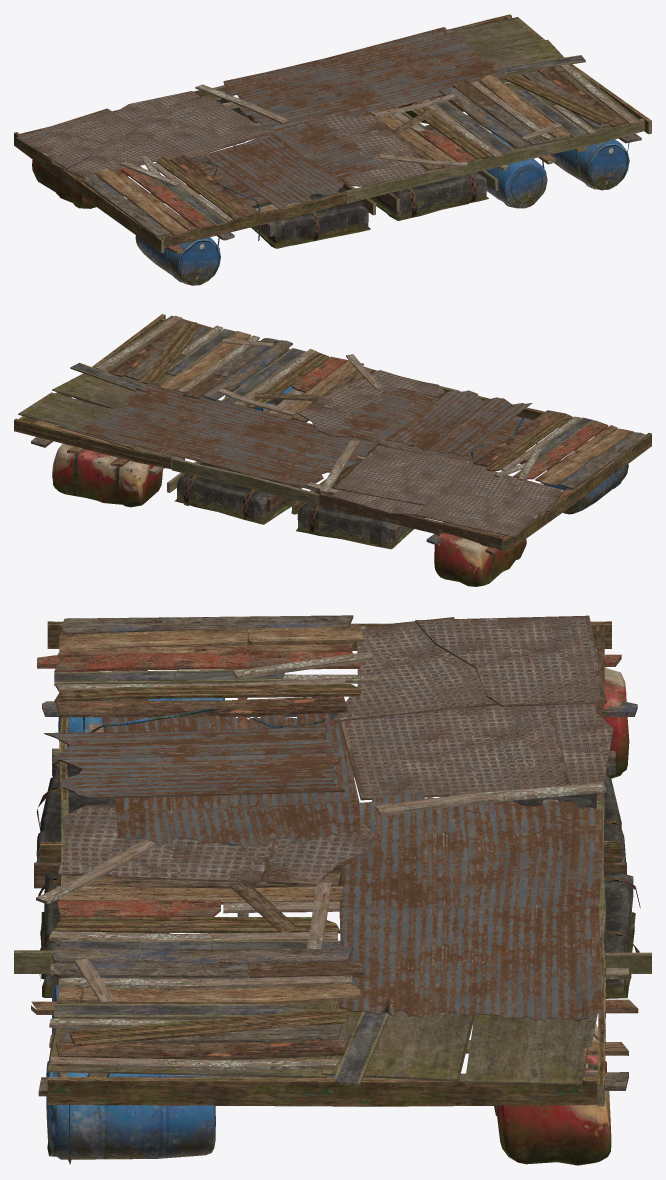
Rendered from floating_walkway_300x600_a.glb.
3 renders of one model, top to bottom at view 1: azimuth 30°, elevation 25°; view 2: azimuth 150°, elevation 25°; view 3: azimuth 270°, elevation 25°, orthographic. The views are drawn at different scales.
Parts seen in each view (by area): view 1: floating_walkway_300x600_a_LOD0; view 2: floating_walkway_300x600_a_LOD0; view 3: floating_walkway_300x600_a_LOD0.
Part boxes in pixels (x1,y1,x2,y2): floating_walkway_300x600_a_LOD0: (14,14,651,285); floating_walkway_300x600_a_LOD0: (14,314,651,586); floating_walkway_300x600_a_LOD0: (14,615,651,1165).
Size of the model in its own units: 6.18 by 0.8279 by 3.52.
Materials: 4 (4 with a texture image).
